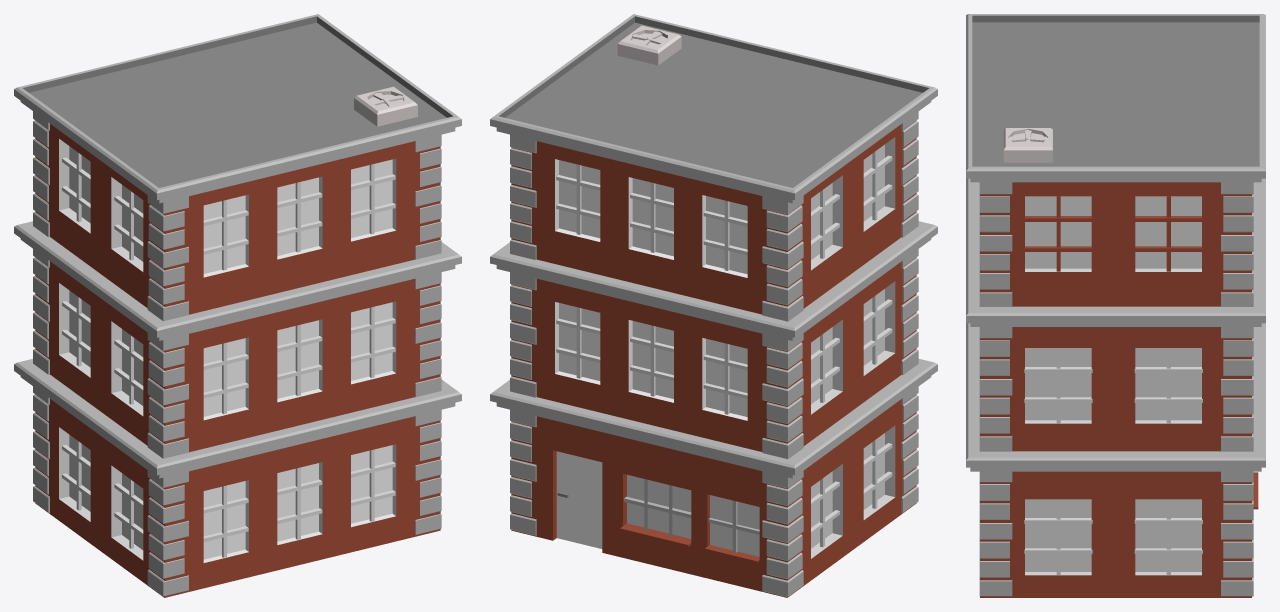
File: Flat_01.fbx
The picture shows the model from 3 angles, left to right: view 1: azimuth 30°, elevation 25°; view 2: azimuth 150°, elevation 25°; view 3: azimuth 270°, elevation 25°; orthographic projection. The views are drawn at different scales.
Visible parts, largest first — view 1: Flat_01; view 2: Flat_01; view 3: Flat_01.
Part boxes in pixels (left/top/right/bottom): Flat_01: left=14, top=14, right=461, bottom=597; Flat_01: left=490, top=14, right=937, bottom=597; Flat_01: left=966, top=14, right=1265, bottom=597.
Bounding box in the file's own units: 381 × 505 × 309.
